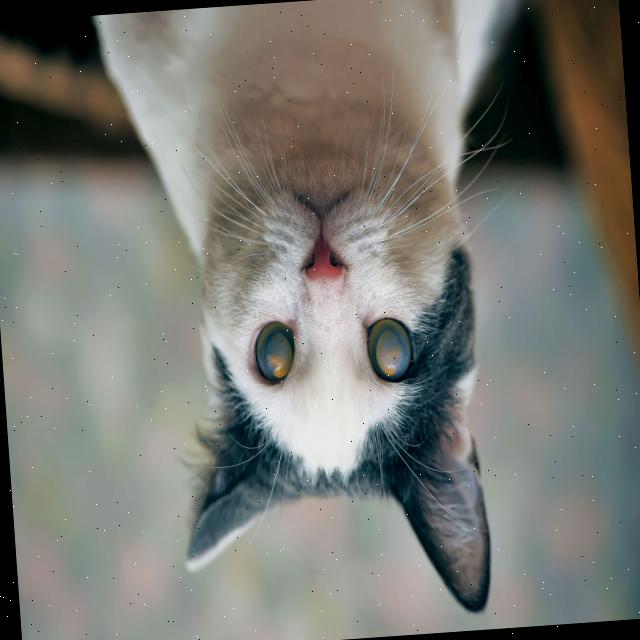cat-eye: (362, 307, 418, 387), (245, 315, 302, 393)
